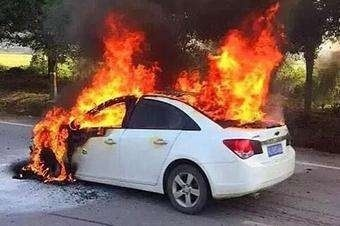fire: (70, 7, 288, 159)
